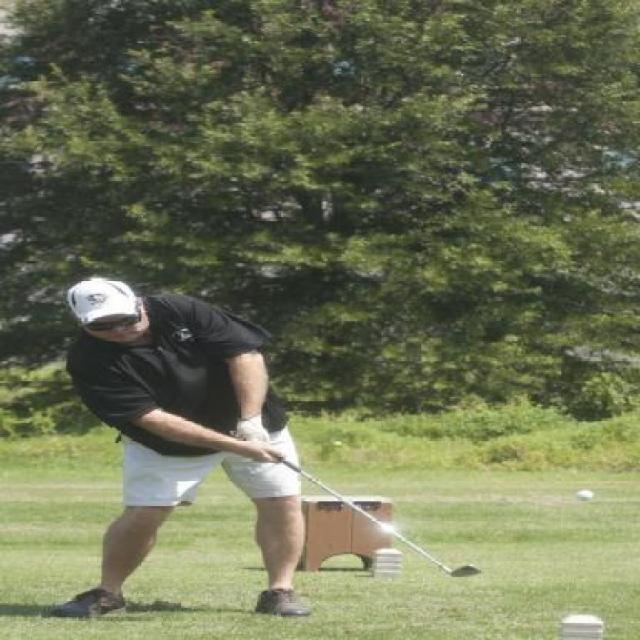club head: (440, 563, 483, 579)
